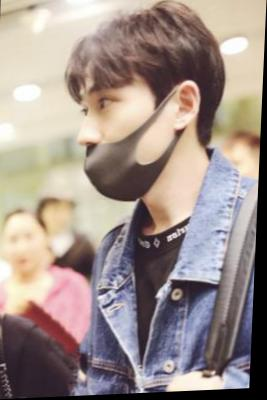NONE: (4, 221, 50, 275)
WRONG: (72, 82, 163, 206)
